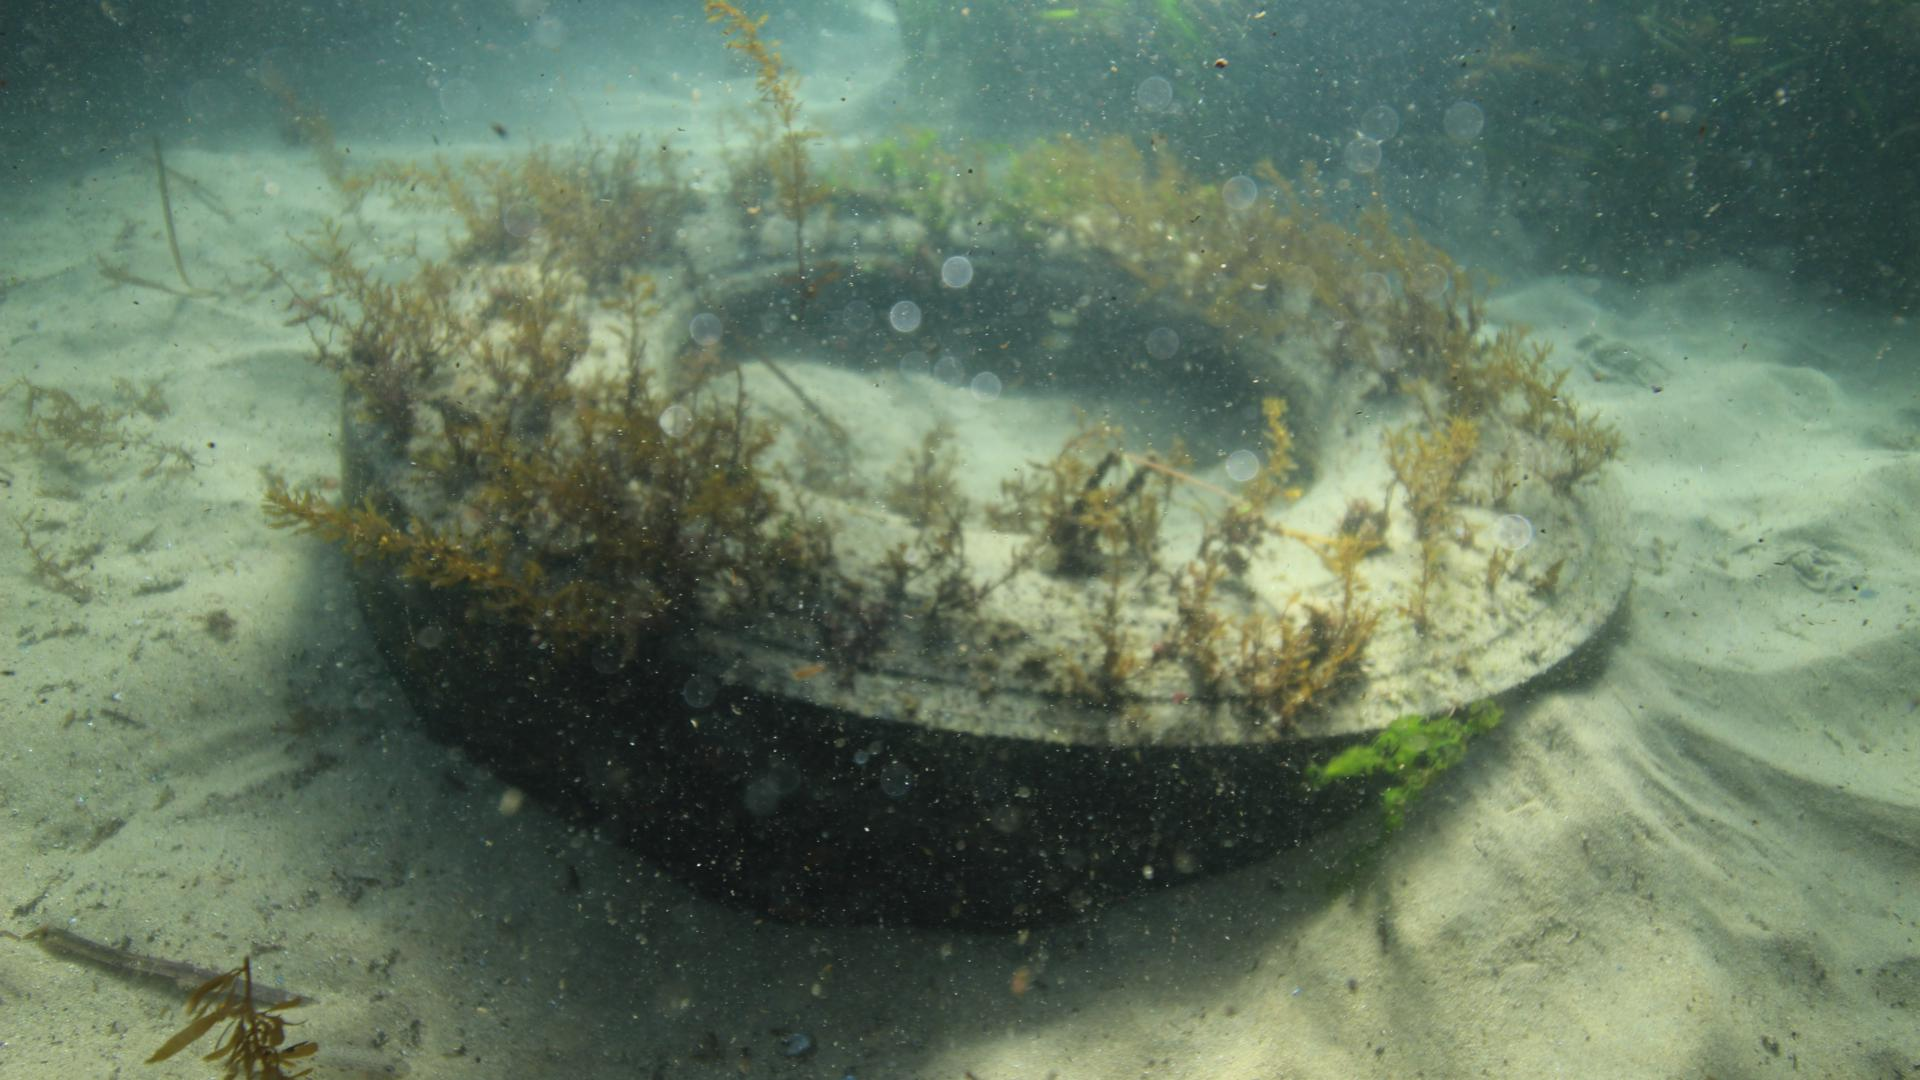tire: (340, 189, 1633, 934)
